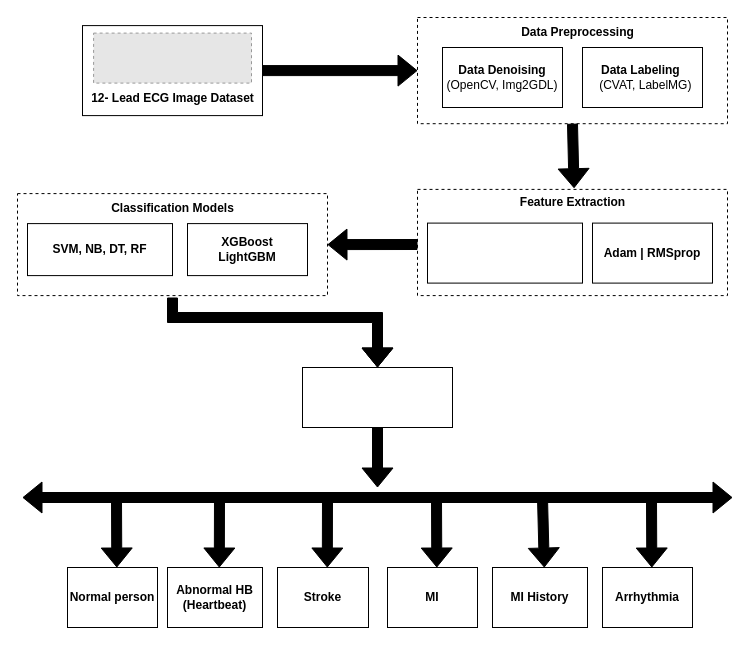
This 750x645 diagram has some shape labels left out. Grey dashed boxes stand in for pictures. The centre of each missing label's shape, as x and y in pixels:
"Heartbeat Classification" goes at point (377, 397).
"Optimized CNN (38 Layers)" goes at point (504, 252).
